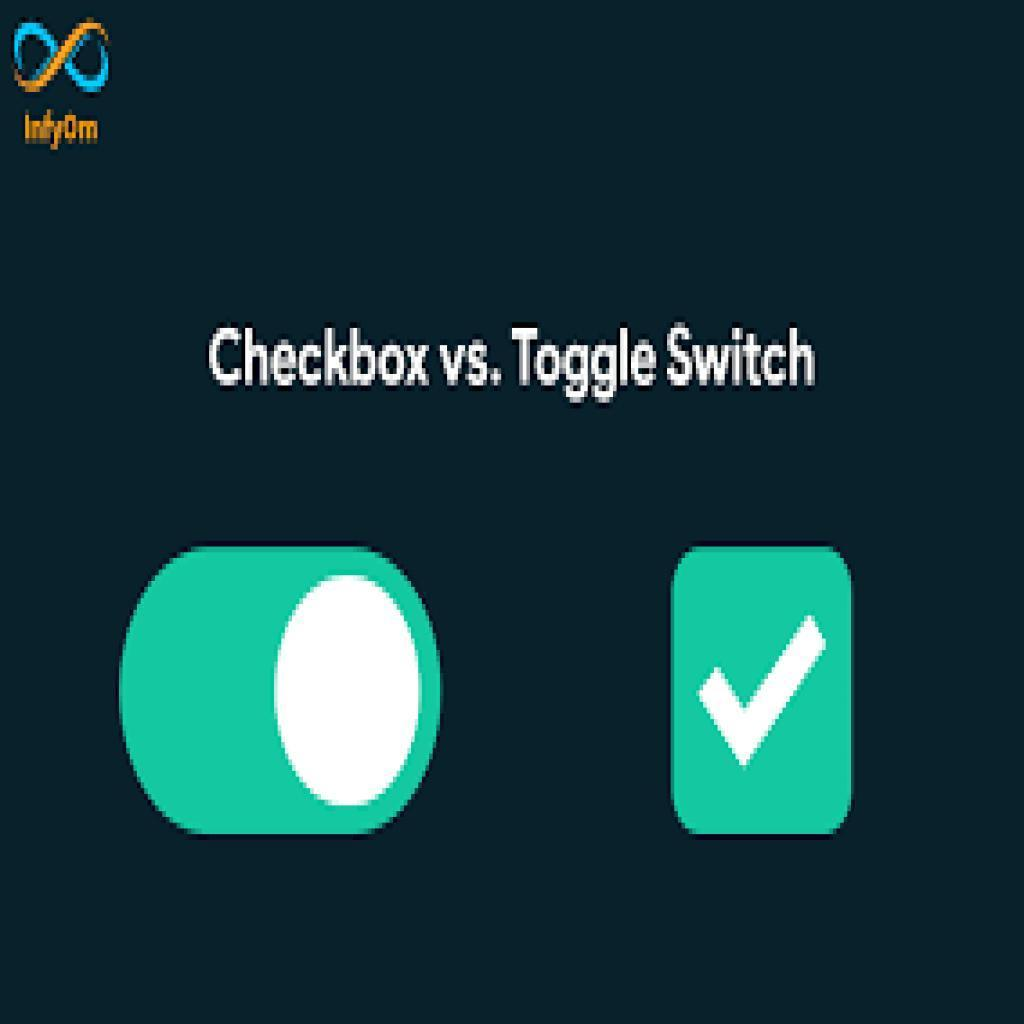checkbox: (676, 552, 854, 833)
switch: (121, 549, 447, 835)
